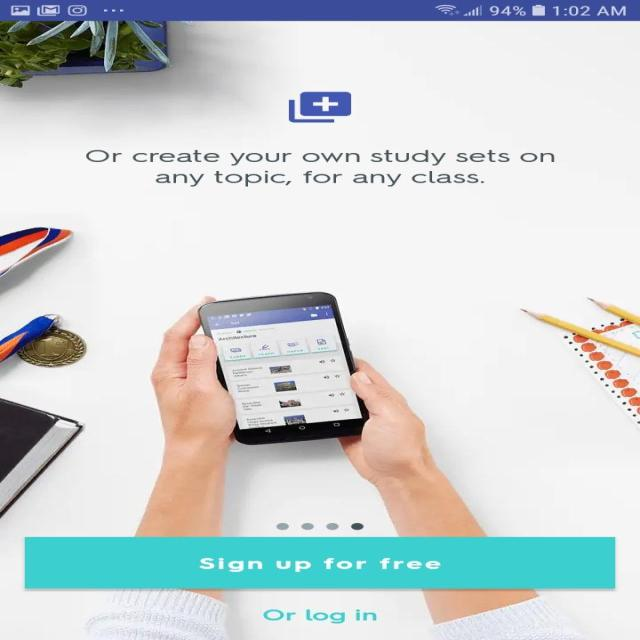BackgroundImage: (0, 21, 639, 639)
Icon: (288, 91, 351, 123)
Text: (85, 150, 555, 187), (262, 608, 376, 624)
TextButton: (24, 537, 614, 588)
